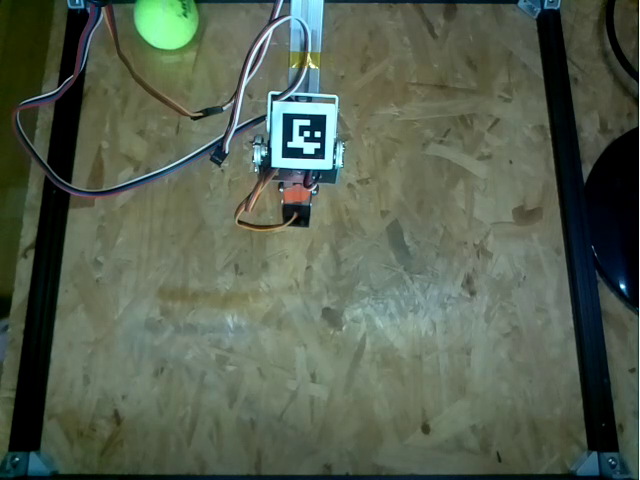tennis_ball: (133, 1, 200, 51)
